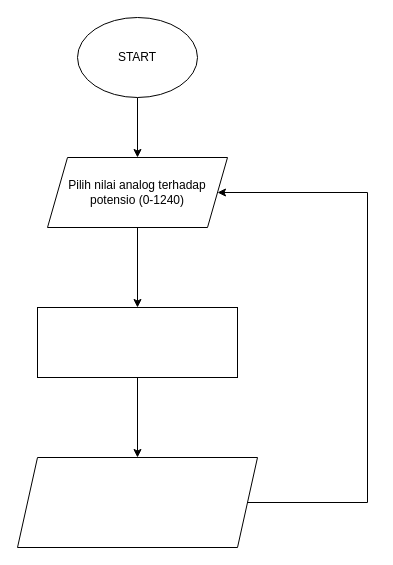
Some shapes in this 393 by 565 pixel diagram are drawn without their labels. The shapes that lost their labels are listed below. From the top down, each one's centre as x and y in pixels, then its label:
pixel 137 342: Mengubah nilai analog menjadi nilai sudut
pixel 137 502: Menampilkan nilai sudut kepada servo
